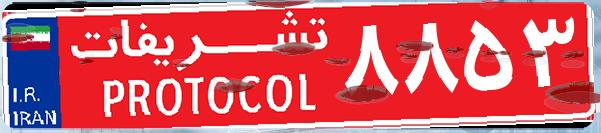3: (520, 20, 580, 115)
5: (460, 20, 520, 115)
8: (340, 20, 400, 115), (400, 20, 460, 115)
تشریفات: (60, 8, 340, 125)
